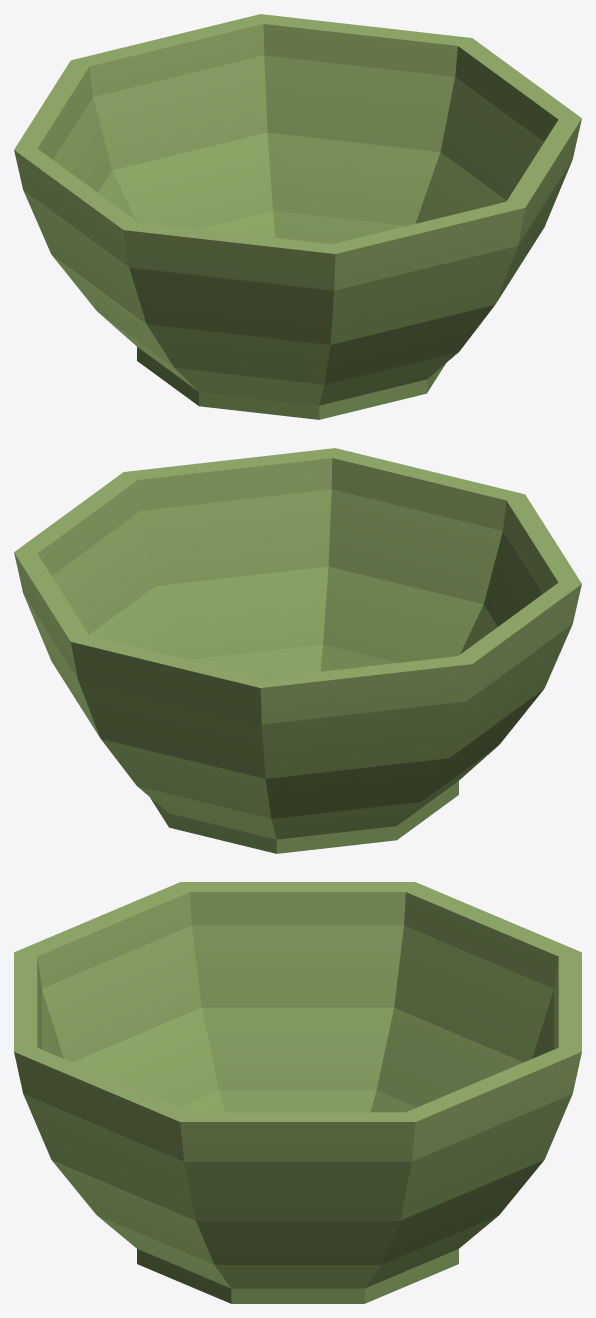
File: Plate4_C4.fbx
3 views of the same model, one above another, from view 1: azimuth 30°, elevation 25°; view 2: azimuth 150°, elevation 25°; view 3: azimuth 270°, elevation 25° (orthographic). The views are drawn at different scales.
Visible parts, largest first — view 1: Plate4_C4; view 2: Plate4_C4; view 3: Plate4_C4.
Boxes of the visible parts, box(x1,y1,x2,y2) form: Plate4_C4: box(14, 14, 581, 419); Plate4_C4: box(14, 448, 581, 853); Plate4_C4: box(14, 882, 581, 1303).
Bounding box in the file's own units: 17.94 × 8.15 × 17.94.
